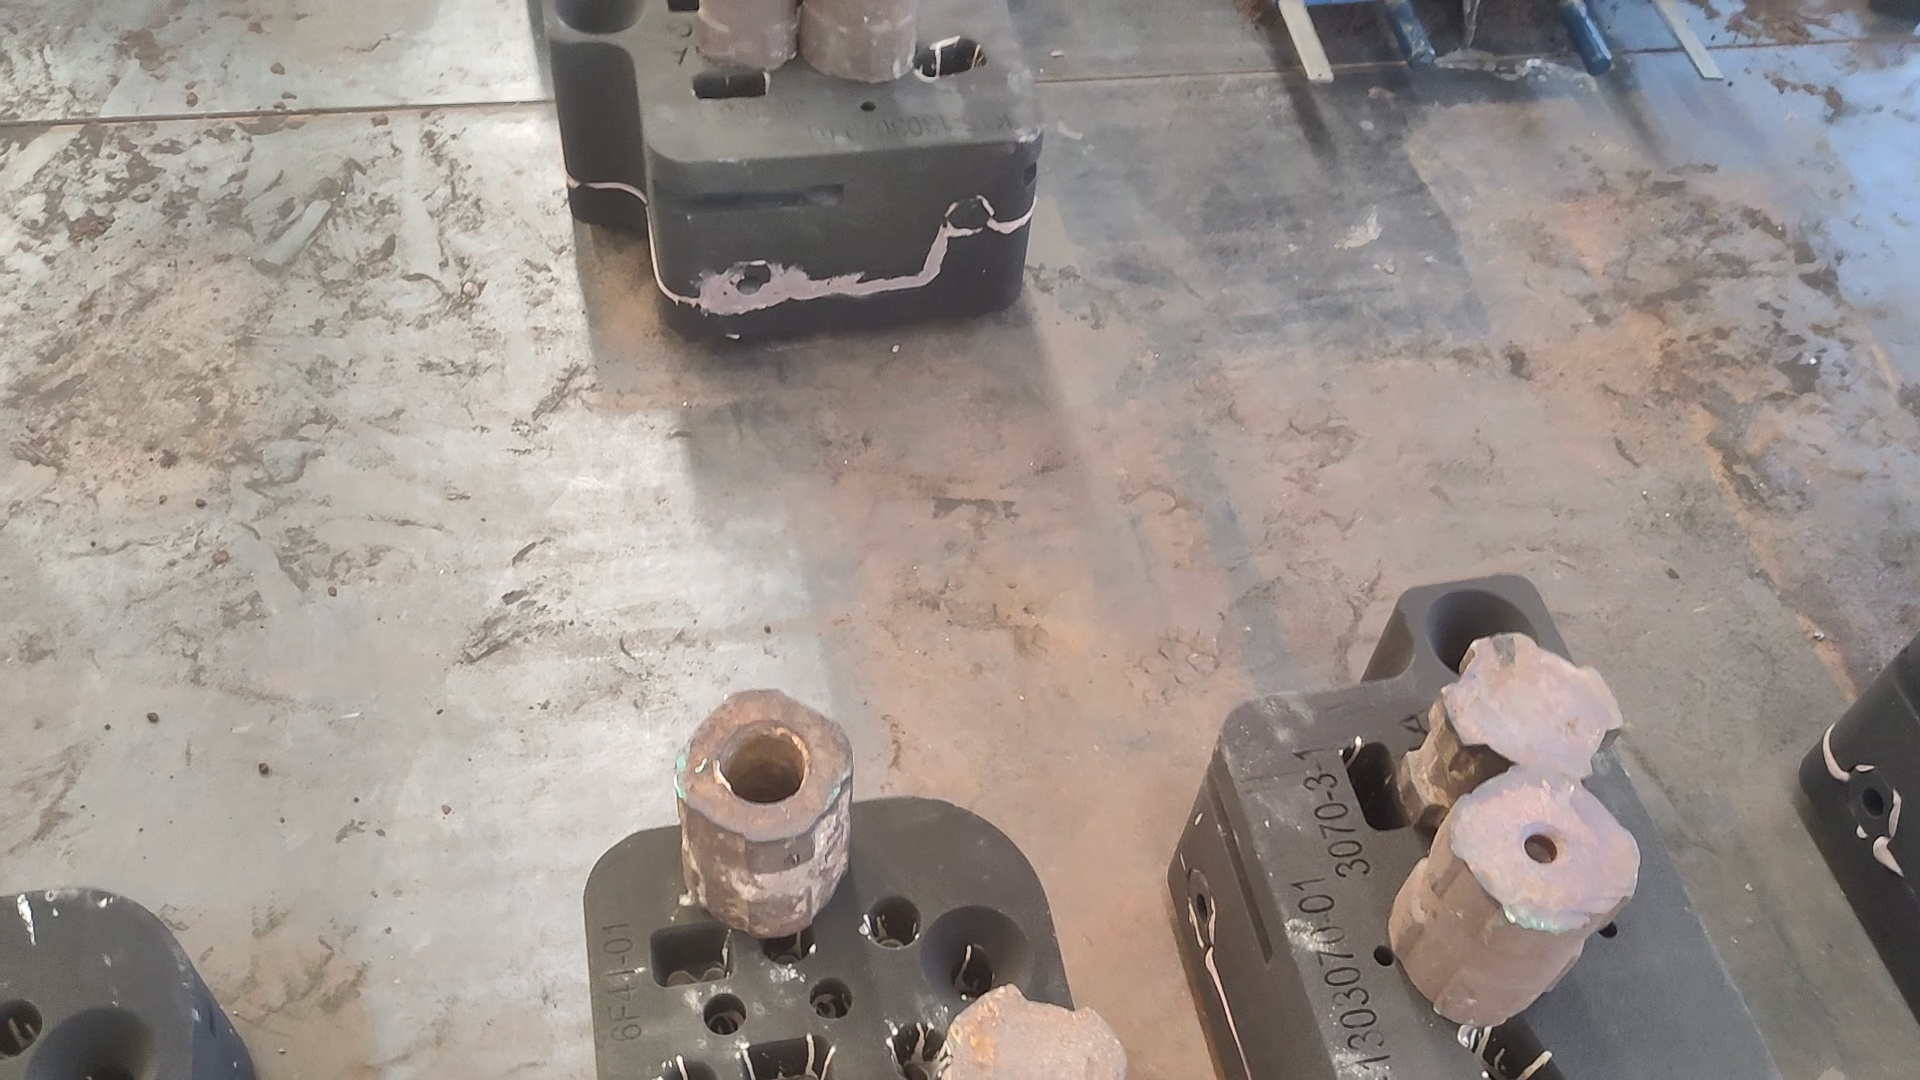pouring hole: (916, 903, 1036, 1006), (1425, 589, 1542, 683), (24, 1004, 160, 1080), (553, 1, 647, 36)
